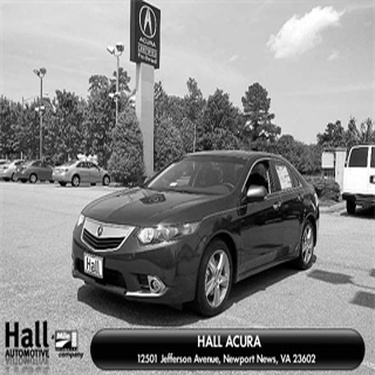car: (64, 140, 323, 322), (53, 150, 115, 189), (1, 155, 59, 188), (1, 156, 32, 182)
